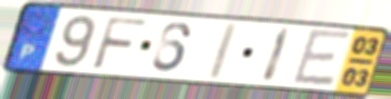6: (151, 21, 194, 75)
9: (52, 13, 99, 69)
E: (289, 27, 355, 88)
F: (88, 14, 151, 72)
I: (203, 20, 242, 82), (259, 25, 294, 85)
